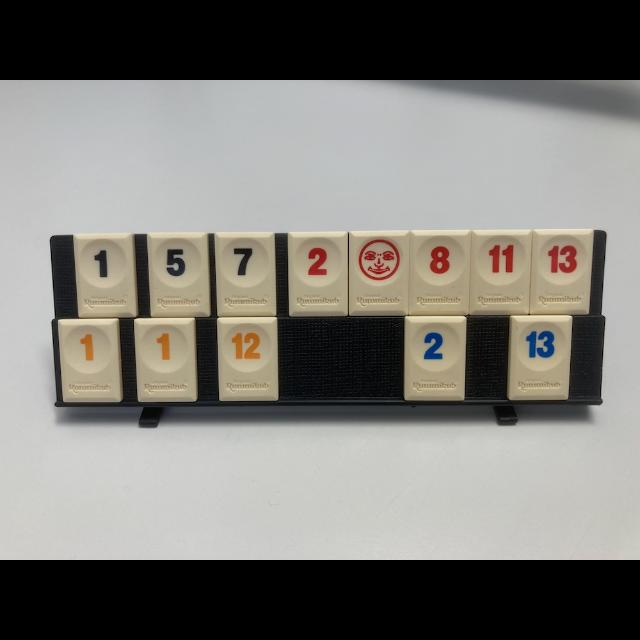black_1: (74, 235, 138, 317)
black_5: (148, 234, 211, 316)
black_7: (215, 234, 277, 318)
blue_13: (509, 315, 572, 400)
blue_2: (404, 318, 466, 401)
joker: (349, 231, 408, 315)
orange_1: (134, 319, 198, 402), (58, 319, 121, 401)
orange_12: (219, 318, 279, 401)
red_11: (470, 230, 531, 315)
red_13: (530, 230, 594, 315)
red_2: (289, 232, 348, 316)
red_8: (409, 232, 471, 315)
